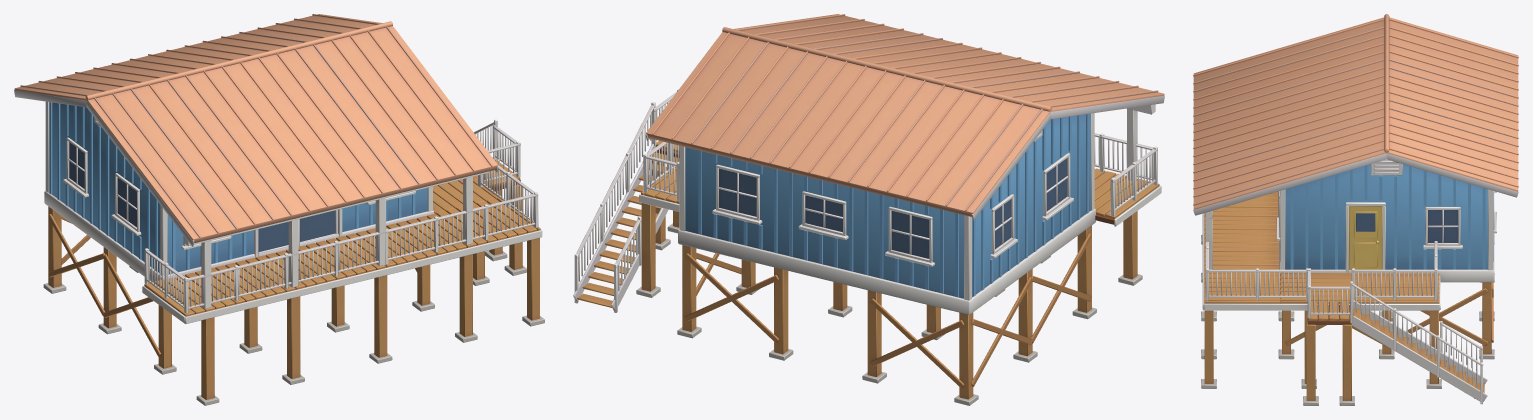
File: beach-house.glb
The picture shows the model from 3 angles, left to right: view 1: azimuth 30°, elevation 25°; view 2: azimuth 150°, elevation 25°; view 3: azimuth 270°, elevation 25°; orthographic projection. The views are drawn at different scales.
Parts seen in each view (by area): view 1: beach-house_body, beach-house_trim, beach-house_battens; view 2: beach-house_body, beach-house_trim, beach-house_battens; view 3: beach-house_body, beach-house_trim, beach-house_battens.
Part boxes in pixels (x1,y1,x2,y2): beach-house_body: (14, 14, 544, 405); beach-house_trim: (45, 101, 538, 313); beach-house_battens: (49, 102, 415, 272); beach-house_body: (573, 14, 1164, 405); beach-house_trim: (574, 89, 1157, 312); beach-house_battens: (698, 114, 1088, 297); beach-house_body: (1193, 14, 1518, 405); beach-house_trim: (1205, 159, 1496, 404); beach-house_battens: (1280, 165, 1493, 269).
Bounding box in the file's own units: 11.85 × 6.82 × 9.26.
3 materials, 2 textured.
